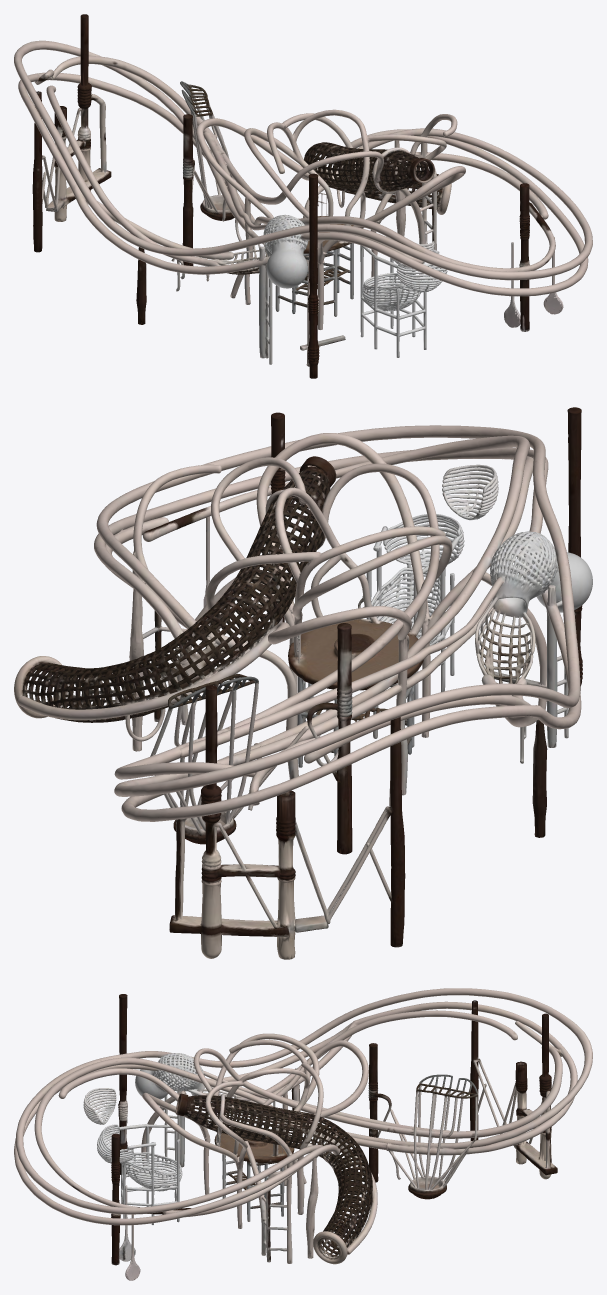
Rendered from model-lite.glb.
3 views of the same model, one above another, from view 1: azimuth 30°, elevation 25°; view 2: azimuth 150°, elevation 25°; view 3: azimuth 270°, elevation 25° (orthographic). The views are drawn at different scales.
Visible parts, largest first — view 1: tripo_node_5135f9ee-d24e-455d-a5c0-0cb8e4c50761; view 2: tripo_node_5135f9ee-d24e-455d-a5c0-0cb8e4c50761; view 3: tripo_node_5135f9ee-d24e-455d-a5c0-0cb8e4c50761.
Part boxes in pixels (x1=…): tripo_node_5135f9ee-d24e-455d-a5c0-0cb8e4c50761: x1=14, y1=14, x2=592, y2=378; tripo_node_5135f9ee-d24e-455d-a5c0-0cb8e4c50761: x1=14, y1=407, x2=592, y2=959; tripo_node_5135f9ee-d24e-455d-a5c0-0cb8e4c50761: x1=14, y1=988, x2=592, y2=1280.
Bounding box in the file's own units: 0.6697 × 0.335 × 0.9803.
1 material, 1 textured.
